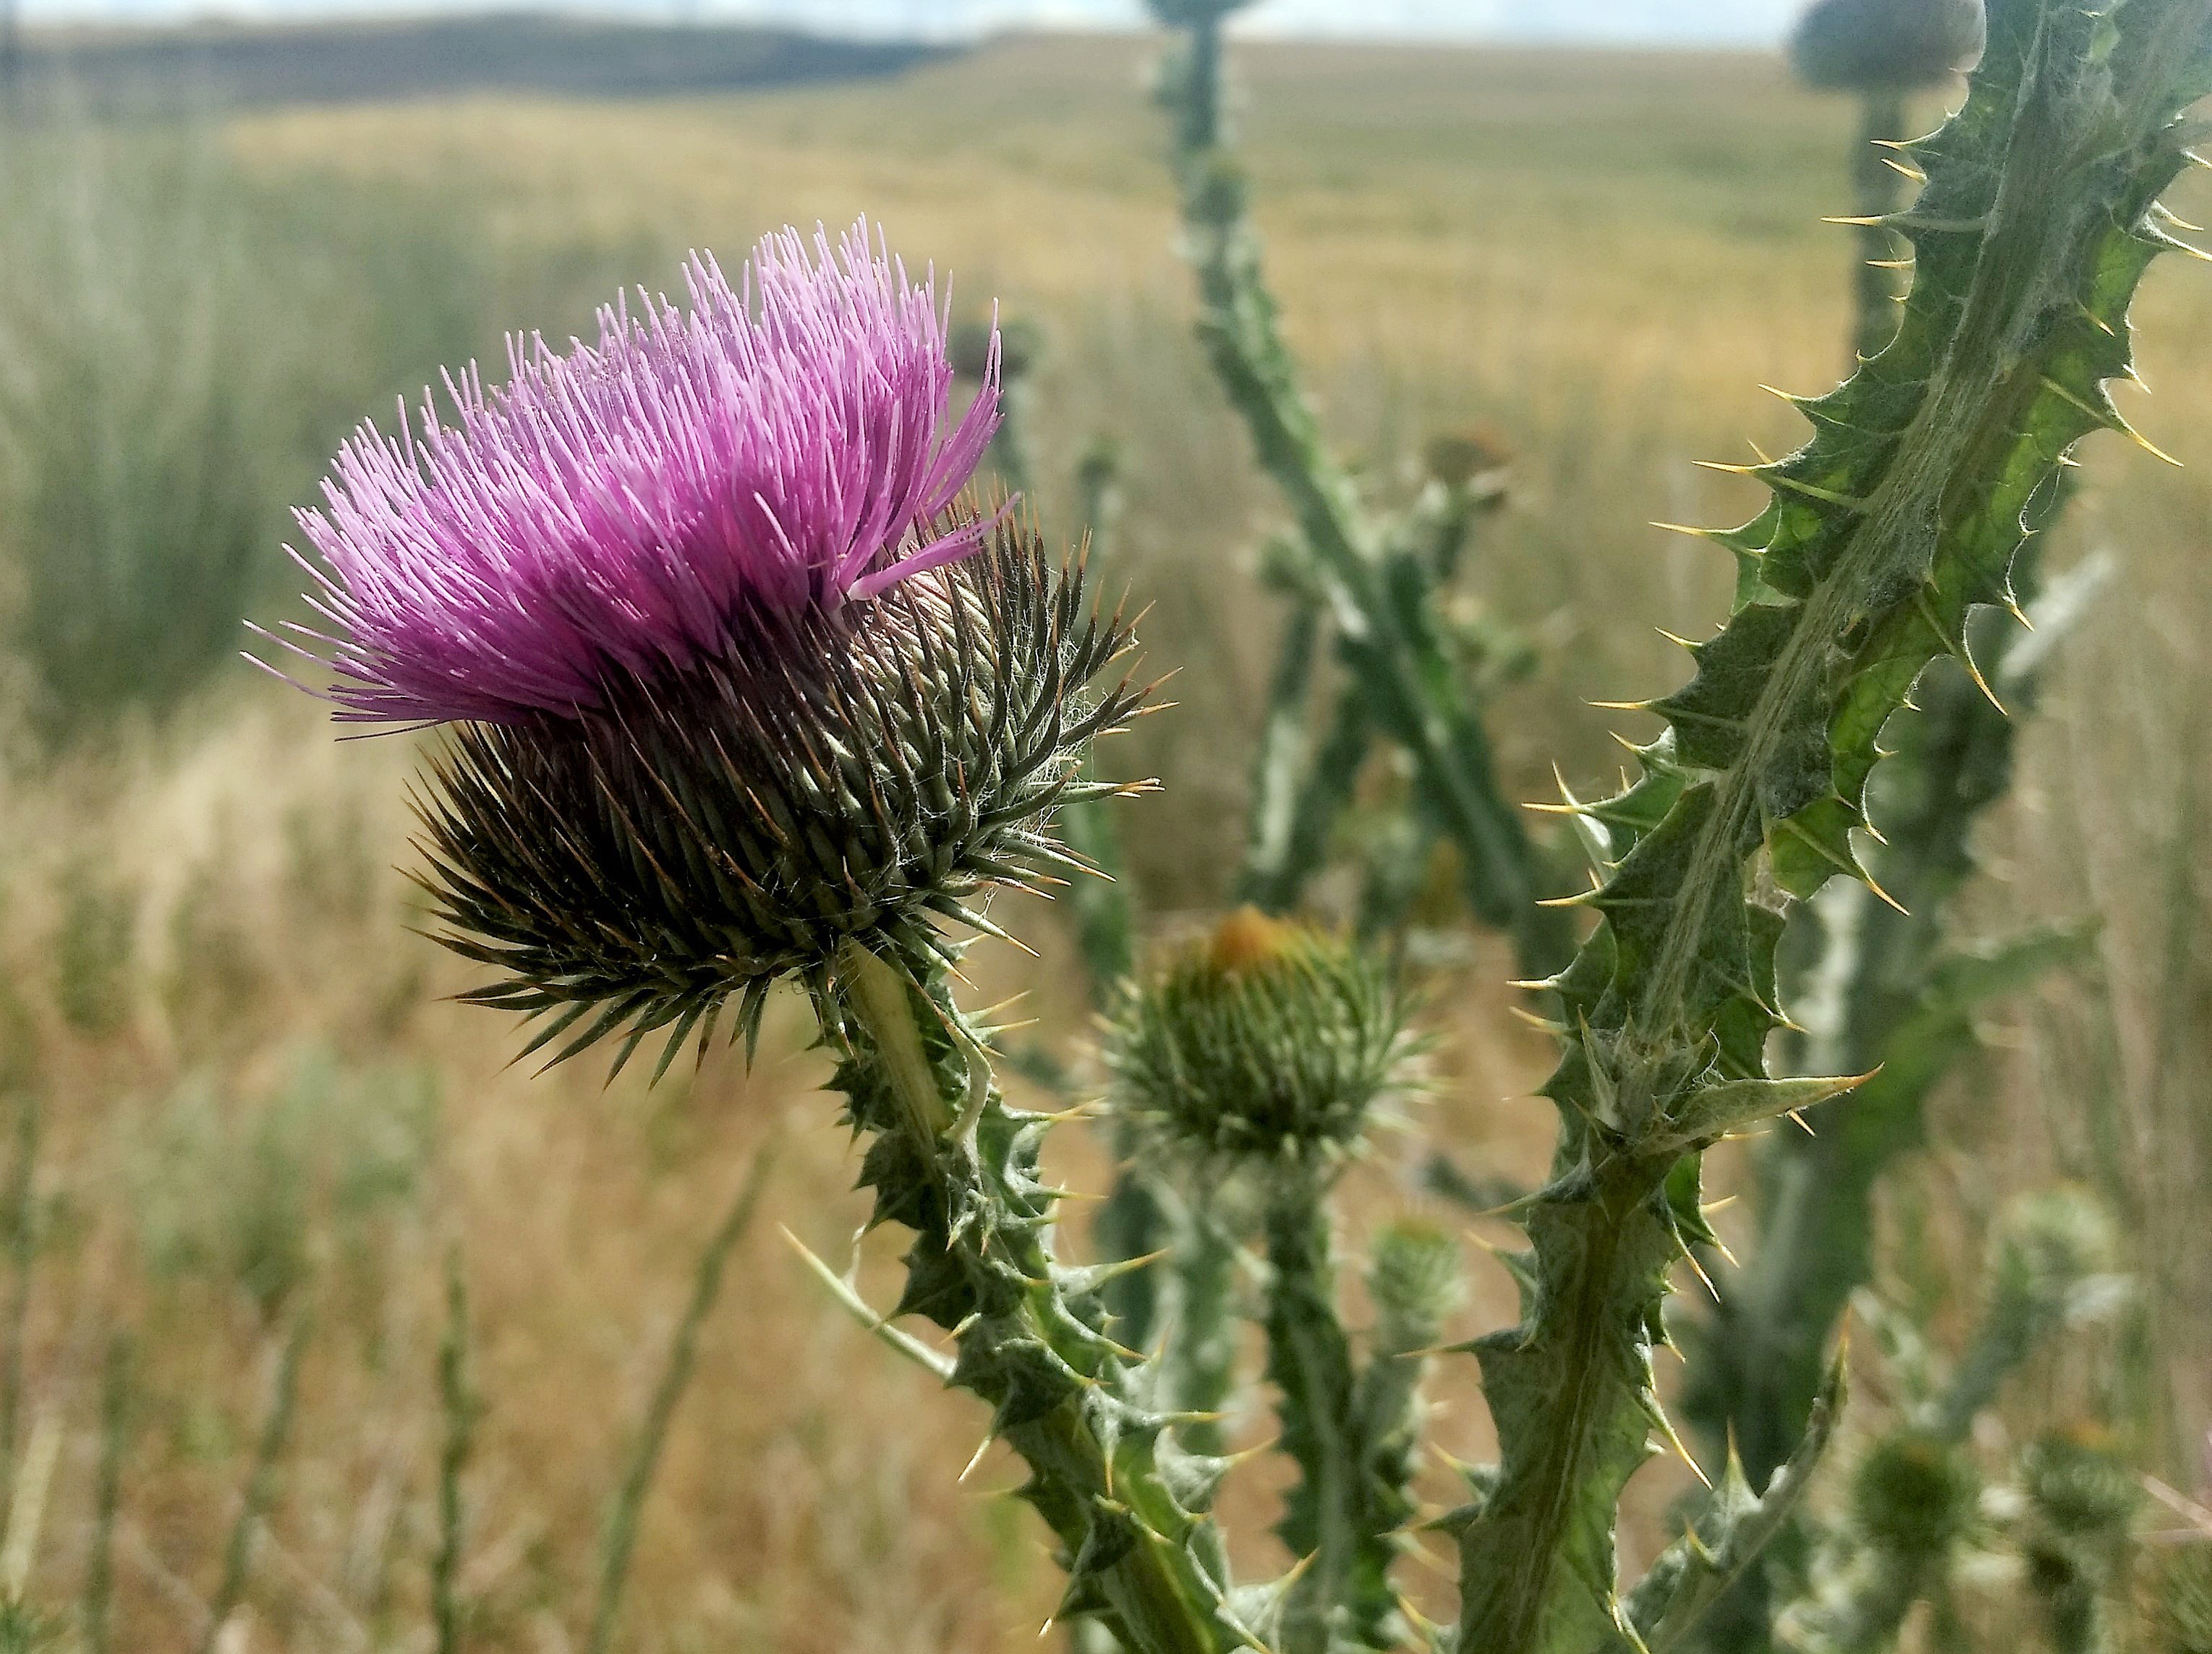thistle: (276, 241, 1150, 989)
